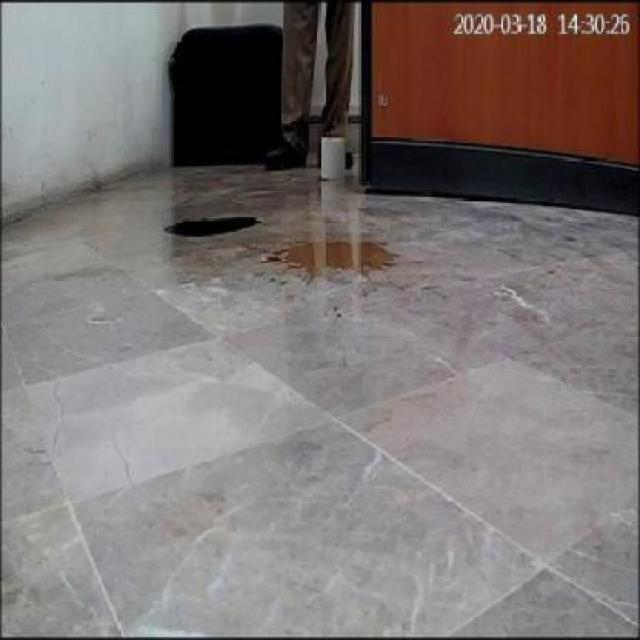spillage: (265, 239, 399, 275), (163, 217, 259, 238)
